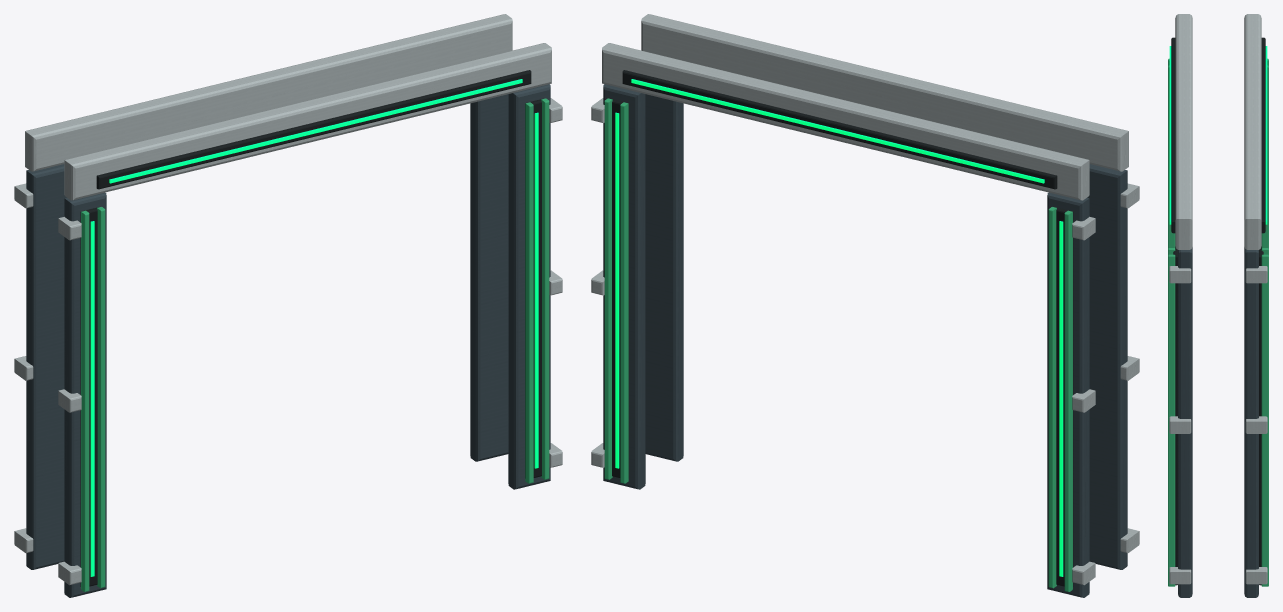
The model's file is genesis-green-airlock.glb.
3 renders of one model, left to right at view 1: azimuth 30°, elevation 25°; view 2: azimuth 150°, elevation 25°; view 3: azimuth 270°, elevation 25°, orthographic. The views are drawn at different scales.
Visible parts, largest first — view 1: green-airlock__graphite, green-airlock__titanium, green-airlock__reflection, green-airlock__rubber, green-airlock__green; view 2: green-airlock__graphite, green-airlock__titanium, green-airlock__reflection, green-airlock__rubber, green-airlock__green; view 3: green-airlock__titanium, green-airlock__graphite, green-airlock__reflection, green-airlock__rubber, green-airlock__green.
Boxes of the visible parts, left/top/right/bottom form: green-airlock__graphite: left=26, top=84, right=550, bottom=597; green-airlock__titanium: left=14, top=14, right=562, bottom=585; green-airlock__reflection: left=81, top=98, right=549, bottom=591; green-airlock__rubber: left=80, top=70, right=542, bottom=586; green-airlock__green: left=90, top=79, right=538, bottom=576; green-airlock__graphite: left=603, top=84, right=1127, bottom=597; green-airlock__titanium: left=591, top=14, right=1139, bottom=585; green-airlock__reflection: left=604, top=98, right=1072, bottom=591; green-airlock__rubber: left=611, top=70, right=1073, bottom=586; green-airlock__green: left=615, top=79, right=1063, bottom=576; green-airlock__titanium: left=1169, top=14, right=1267, bottom=584; green-airlock__graphite: left=1178, top=247, right=1258, bottom=597; green-airlock__reflection: left=1168, top=58, right=1268, bottom=586; green-airlock__rubber: left=1171, top=37, right=1265, bottom=585; green-airlock__green: left=1169, top=46, right=1267, bottom=224.
Size of the model in its own units: 4.04 by 3.4 by 0.82.
Materials: 5 (3 with a texture image).
